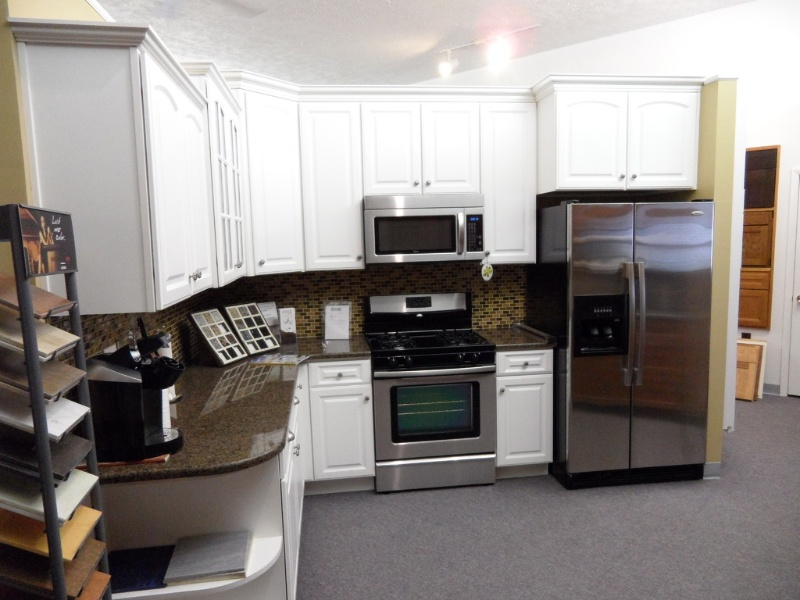oven: (369, 343, 505, 484)
refrigerator: (544, 198, 712, 487)
